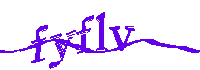f: (76, 11, 94, 55), (30, 24, 47, 64)
l: (95, 11, 109, 52)
v: (108, 23, 135, 52)
y: (49, 30, 76, 69)
